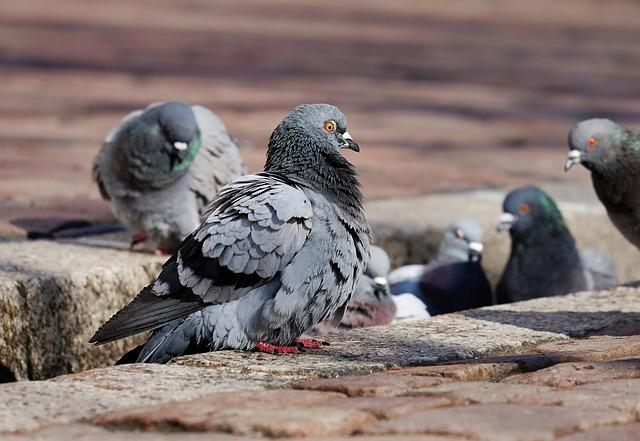Non_Gorille: (70, 30, 640, 433)
